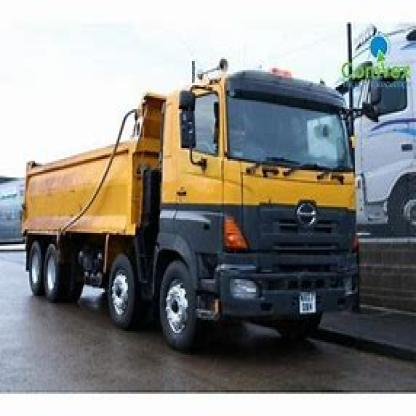dump_truck: (14, 52, 374, 346)
